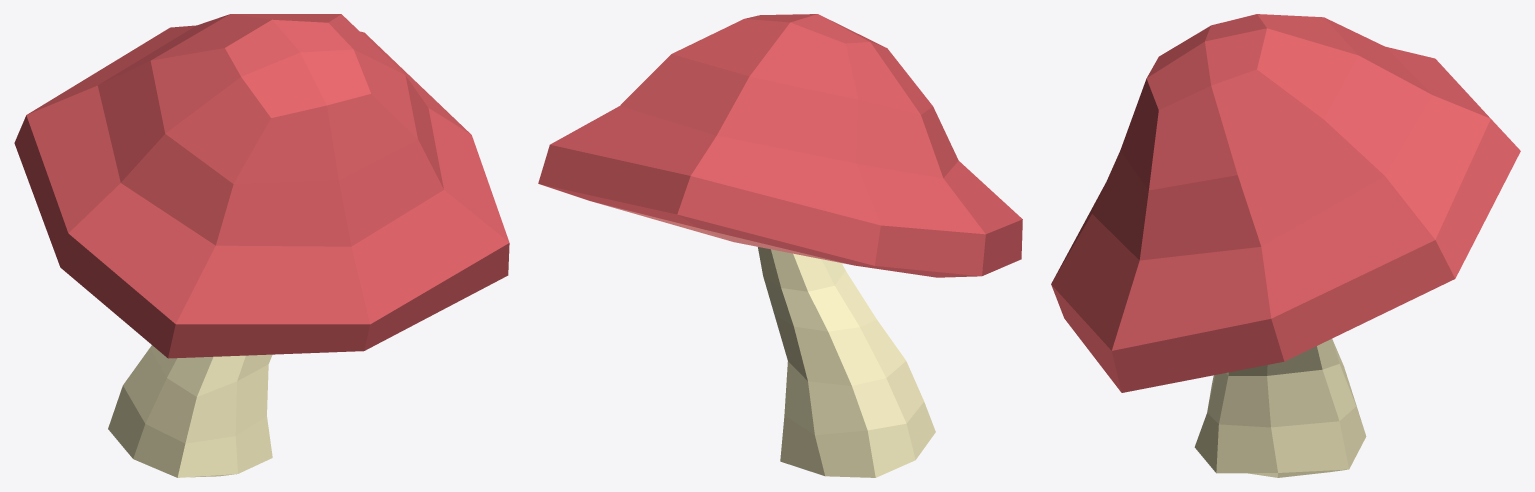
The model's file is low_poly_mushroom.glb.
3 views of the same model, side by side, from view 1: azimuth 30°, elevation 25°; view 2: azimuth 150°, elevation 25°; view 3: azimuth 270°, elevation 25° (orthographic). The views are drawn at different scales.
Parts seen in each view (by area): view 1: Cube.001; view 2: Cube.001; view 3: Cube.001.
Boxes of the visible parts, x1,y1,x2,y2 form: Cube.001: (14, 14, 509, 477); Cube.001: (538, 14, 1022, 477); Cube.001: (1051, 14, 1520, 477).
Size of the model in its own units: 8.29 by 8.35 by 7.53.
